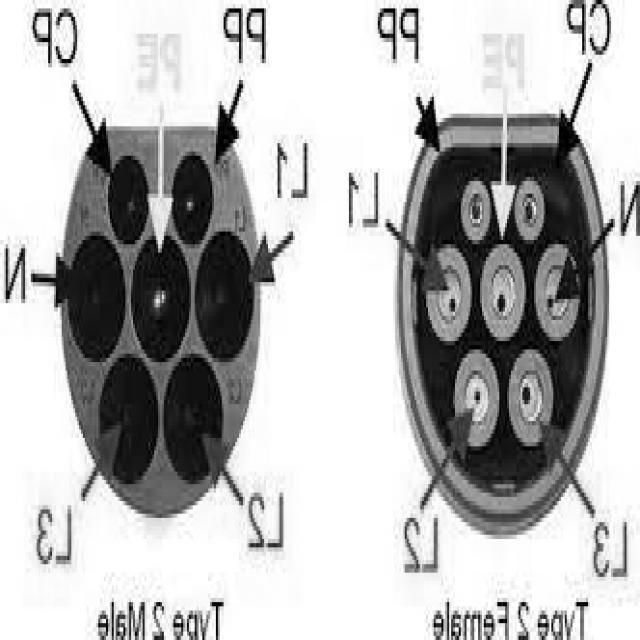Type 2: (347, 127, 635, 494)
